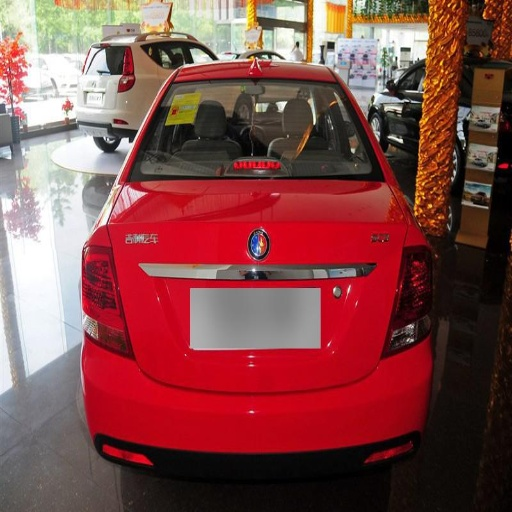tailgate: (112, 237, 380, 390)
